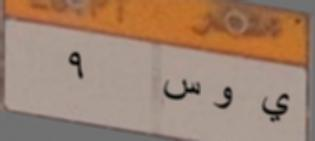9: (60, 50, 92, 80)
seen: (157, 79, 205, 104)
waw: (209, 82, 237, 115)
yaa: (259, 86, 294, 125)
